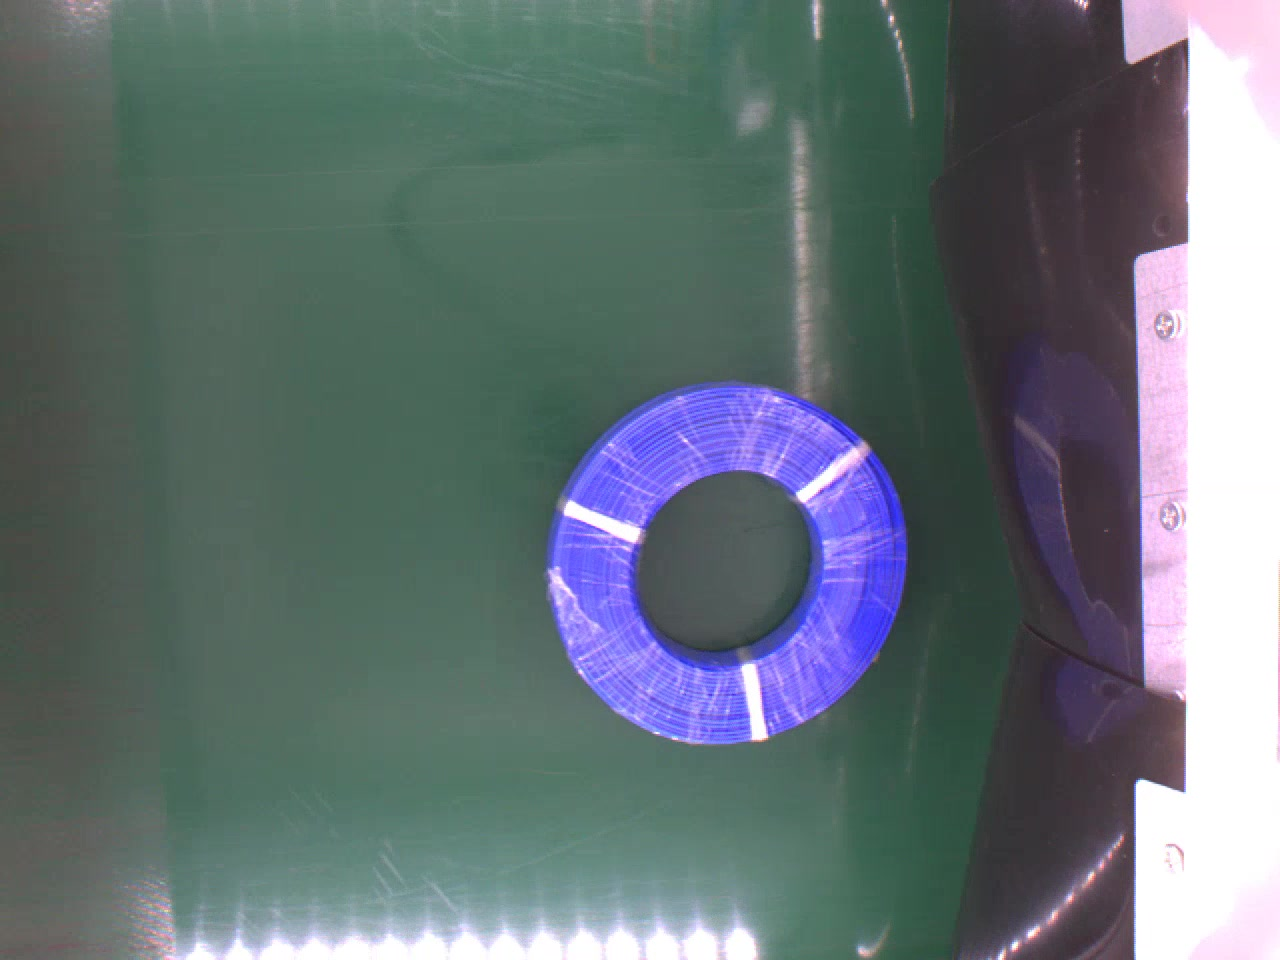blue: (542, 377, 911, 744)
